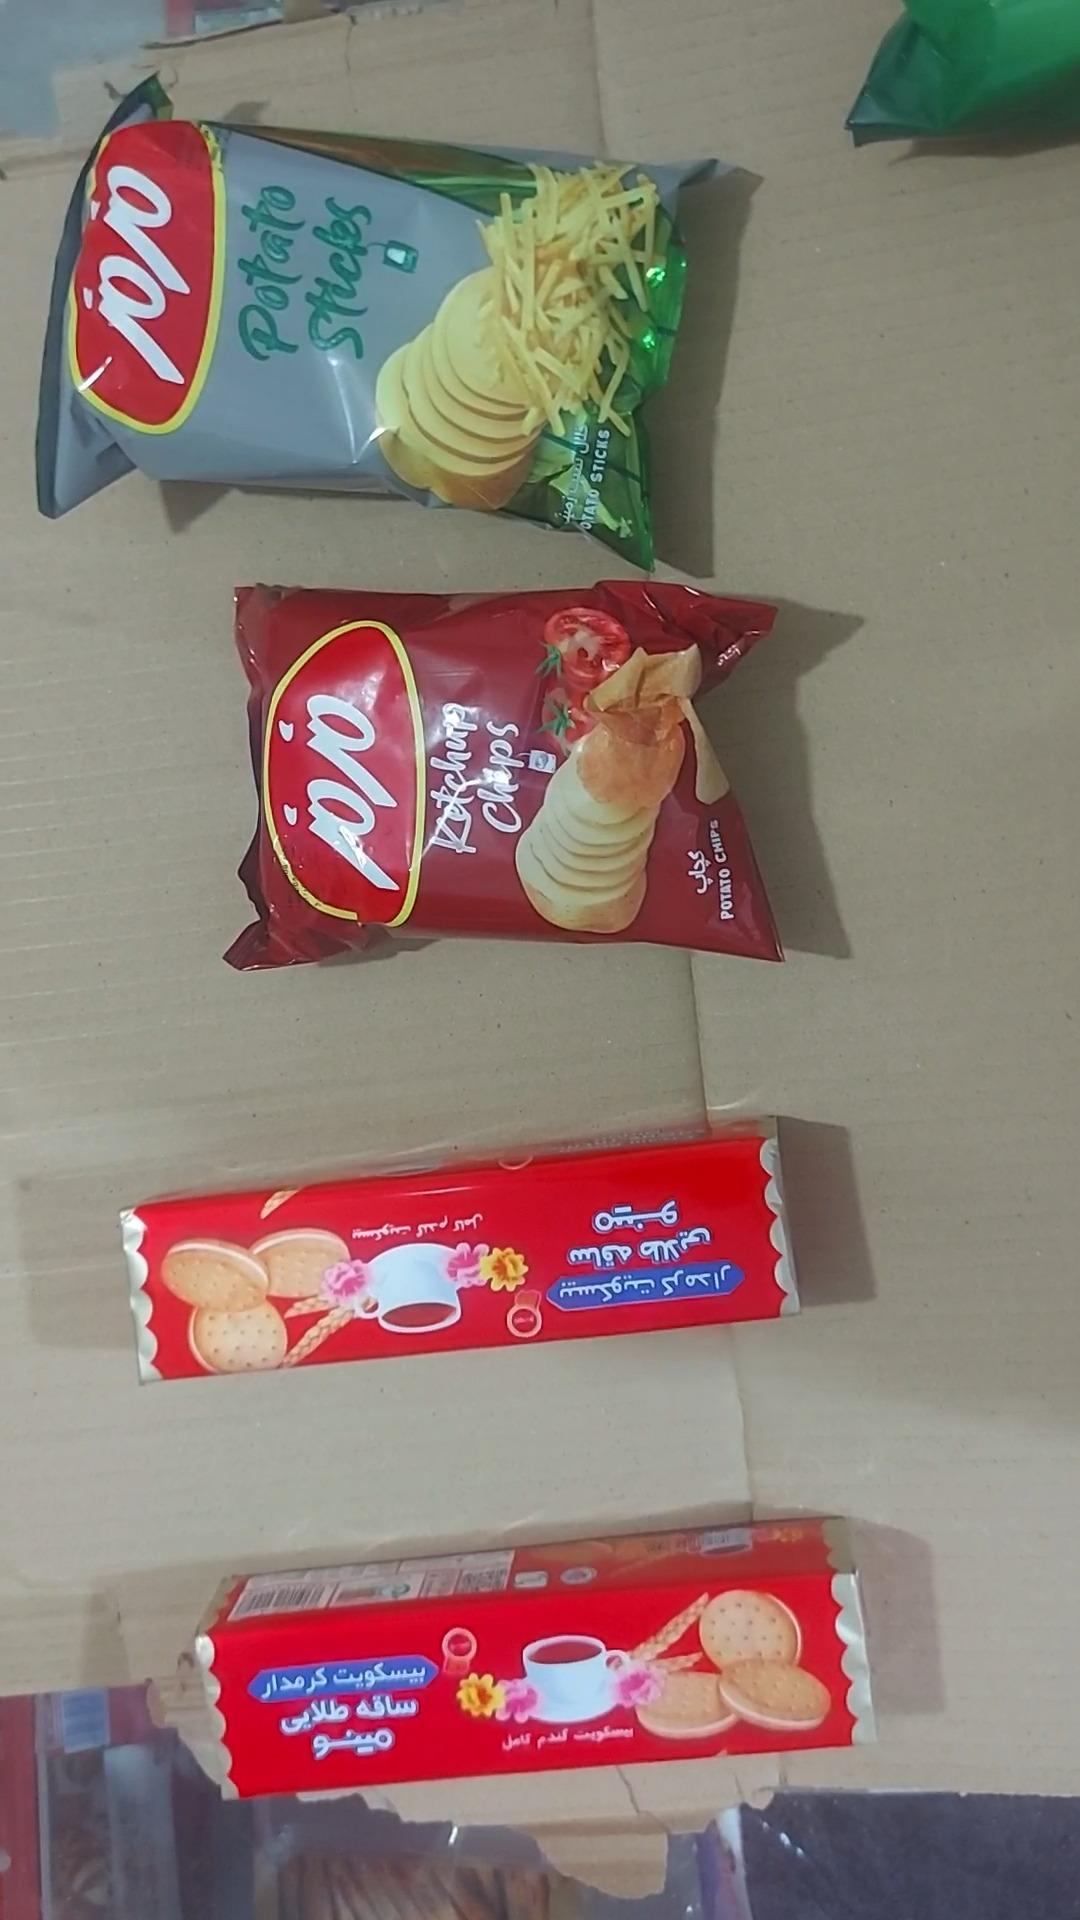Maz Maz ketchup chips: (222, 580, 785, 976)
Maz Maz potato sticks: (36, 76, 720, 574)
Minoo cream biscuit: (191, 1516, 872, 1800), (121, 1117, 800, 1385)
